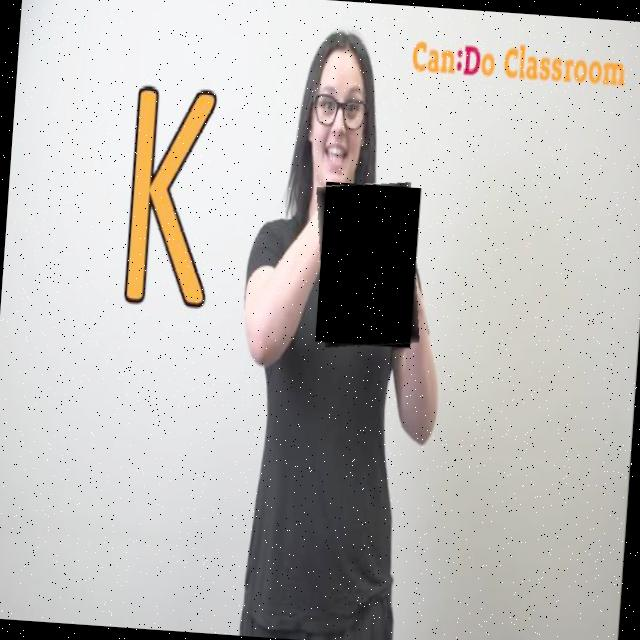K: (311, 179, 427, 352)
